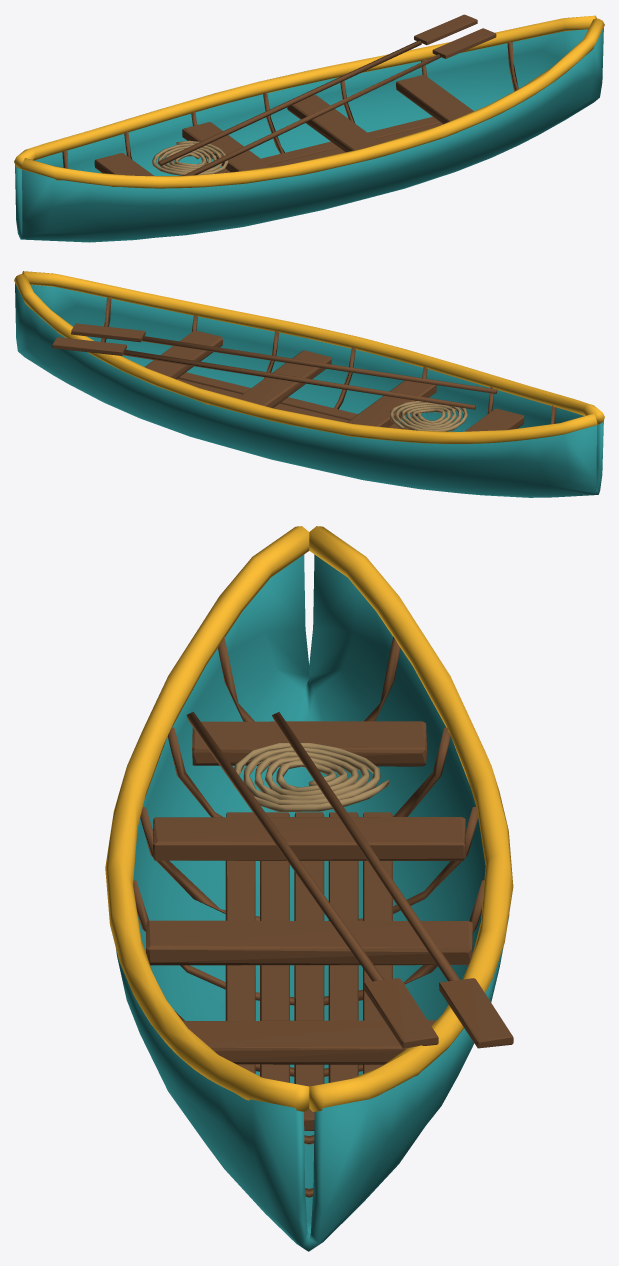
File: FishingBoat.glb
3 views of the same model, one above another, from view 1: azimuth 30°, elevation 25°; view 2: azimuth 150°, elevation 25°; view 3: azimuth 270°, elevation 25° (orthographic). The views are drawn at different scales.
Parts seen in each view (by area): view 1: FishingBoat_Boat_Coastal_Teal, FishingBoat_Boat_Saffron_Stripe, FishingBoat_House_Teak_Wood, FishingBoat_Boat_Coir_Rope; view 2: FishingBoat_Boat_Coastal_Teal, FishingBoat_Boat_Saffron_Stripe, FishingBoat_House_Teak_Wood, FishingBoat_Boat_Coir_Rope; view 3: FishingBoat_Boat_Coastal_Teal, FishingBoat_House_Teak_Wood, FishingBoat_Boat_Saffron_Stripe, FishingBoat_Boat_Coir_Rope.
Part boxes in pixels (<box>): FishingBoat_Boat_Coastal_Teal: <box>15,28,603,242</box>; FishingBoat_Boat_Saffron_Stripe: <box>14,15,604,188</box>; FishingBoat_House_Teak_Wood: <box>62,14,518,175</box>; FishingBoat_Boat_Coir_Rope: <box>152,140,228,175</box>; FishingBoat_Boat_Coastal_Teal: <box>15,283,603,497</box>; FishingBoat_Boat_Saffron_Stripe: <box>14,271,604,443</box>; FishingBoat_House_Teak_Wood: <box>52,297,556,431</box>; FishingBoat_Boat_Coir_Rope: <box>390,401,467,431</box>; FishingBoat_Boat_Coastal_Teal: <box>116,554,509,1251</box>; FishingBoat_House_Teak_Wood: <box>133,636,513,1197</box>; FishingBoat_Boat_Saffron_Stripe: <box>105,526,513,1111</box>; FishingBoat_Boat_Coir_Rope: <box>233,742,389,811</box>.
Bounding box in the file's own units: 6.29 × 1.15 × 1.91.
